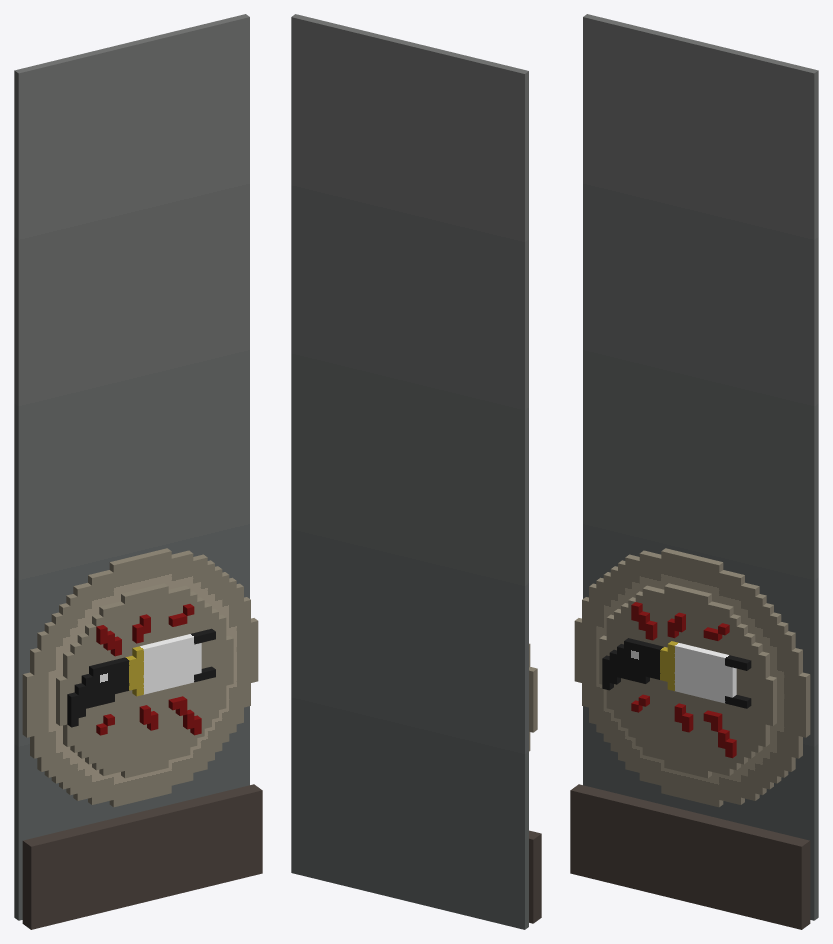
The model's file is scene_penguin.glb.
The picture shows the model from 3 angles, left to right: view 1: azimuth 30°, elevation 25°; view 2: azimuth 150°, elevation 25°; view 3: azimuth 330°, elevation 25°; orthographic projection.
Visible parts, largest first — view 1: scene_penguin_2, scene_penguin_1; view 2: scene_penguin_2, scene_penguin_1; view 3: scene_penguin_2, scene_penguin_1.
Boxes of the visible parts, x1=… form: scene_penguin_2: x1=14, y1=14, x2=249, y2=920; scene_penguin_1: x1=22, y1=548, x2=262, y2=929; scene_penguin_2: x1=291, y1=14, x2=528, y2=929; scene_penguin_1: x1=529, y1=643, x2=541, y2=923; scene_penguin_2: x1=583, y1=14, x2=818, y2=920; scene_penguin_1: x1=570, y1=548, x2=810, y2=929.
Bounding box in the file's own units: 3.2 × 11.2 × 0.5.
1 material, 1 textured.
